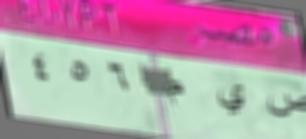4: (26, 47, 56, 85)
5: (66, 59, 95, 85)
6: (102, 60, 133, 95)
meem: (160, 79, 189, 110)
saad: (265, 84, 306, 119)
yaa: (214, 80, 251, 117)
